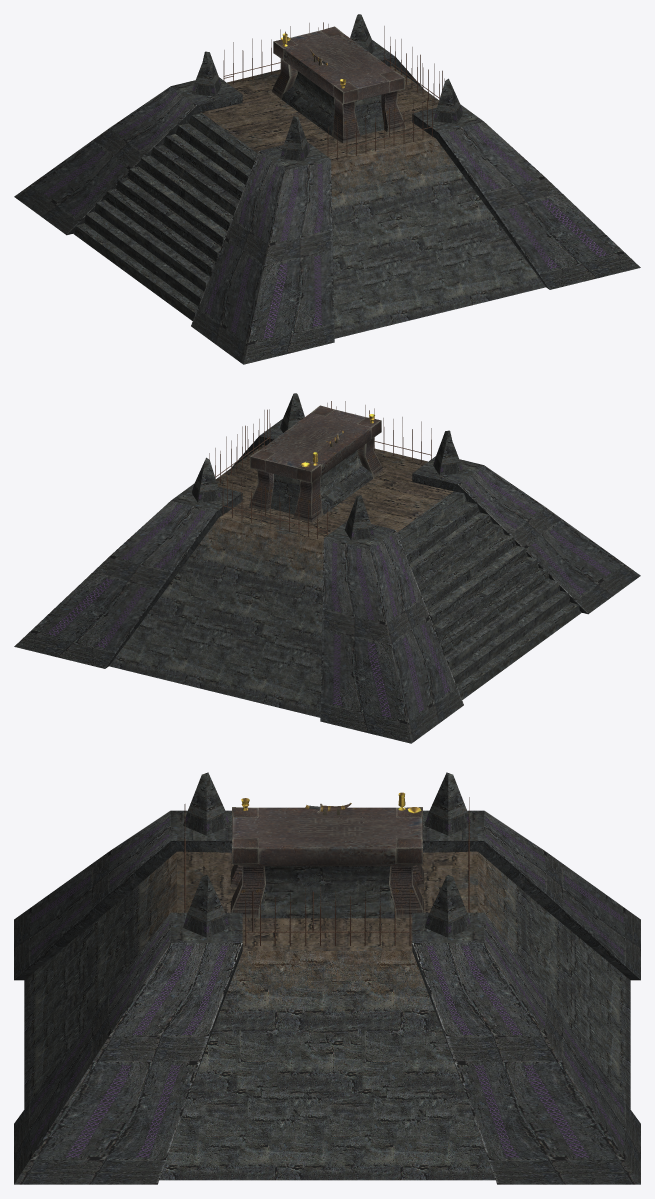
File: altar_lod.fbx
3 renders of one model, top to bottom at view 1: azimuth 30°, elevation 25°; view 2: azimuth 150°, elevation 25°; view 3: azimuth 270°, elevation 25°, orthographic. The views are drawn at different scales.
Parts seen in each view (by area): view 1: Mesh Object; view 2: Mesh Object; view 3: Mesh Object.
Boxes of the visible parts, x1,y1,x2,y2 form: Mesh Object: [14, 14, 640, 364]; Mesh Object: [14, 393, 640, 743]; Mesh Object: [14, 772, 640, 1184].
Bounding box in the file's own units: 10 × 4.36 × 10.
